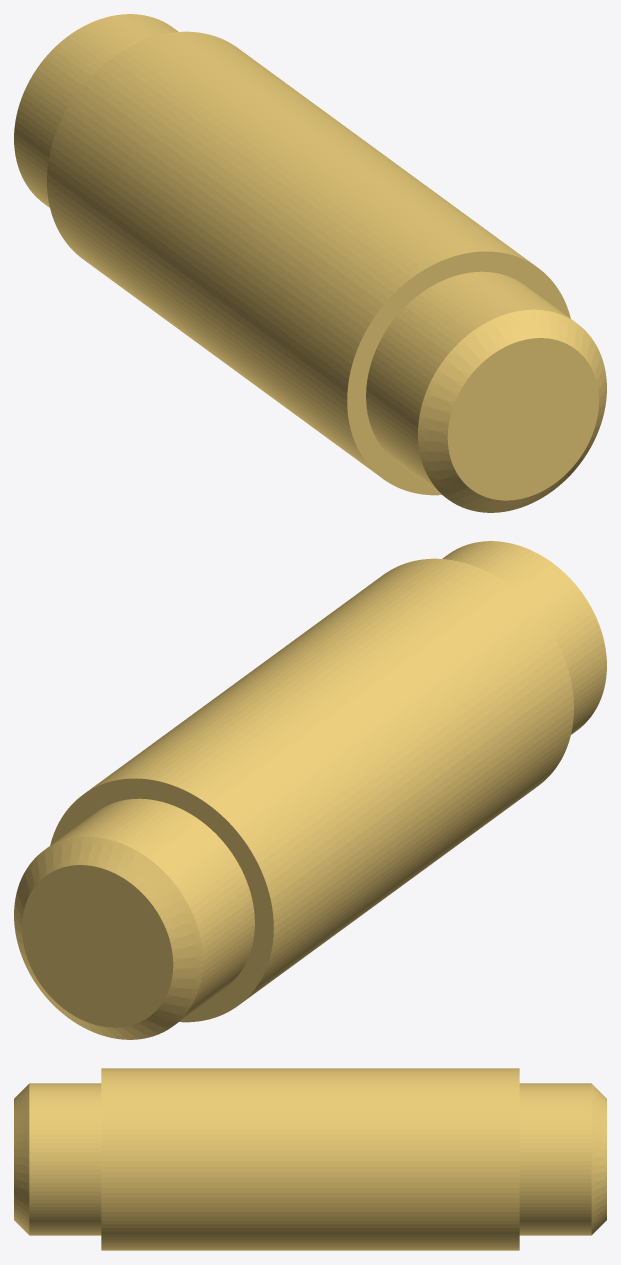
The model's file is AXLE.glb.
3 views of the same model, one above another, from view 1: azimuth 30°, elevation 25°; view 2: azimuth 150°, elevation 25°; view 3: azimuth 270°, elevation 25° (orthographic). The views are drawn at different scales.
Visible parts, largest first — view 1: AXLE; view 2: AXLE; view 3: AXLE.
Boxes of the visible parts, left/top/right/bottom form: AXLE: left=14, top=14, right=606, bottom=512; AXLE: left=14, top=541, right=606, bottom=1039; AXLE: left=14, top=1068, right=606, bottom=1250.
Bounding box in the file's own units: 24 × 23.99 × 78.
